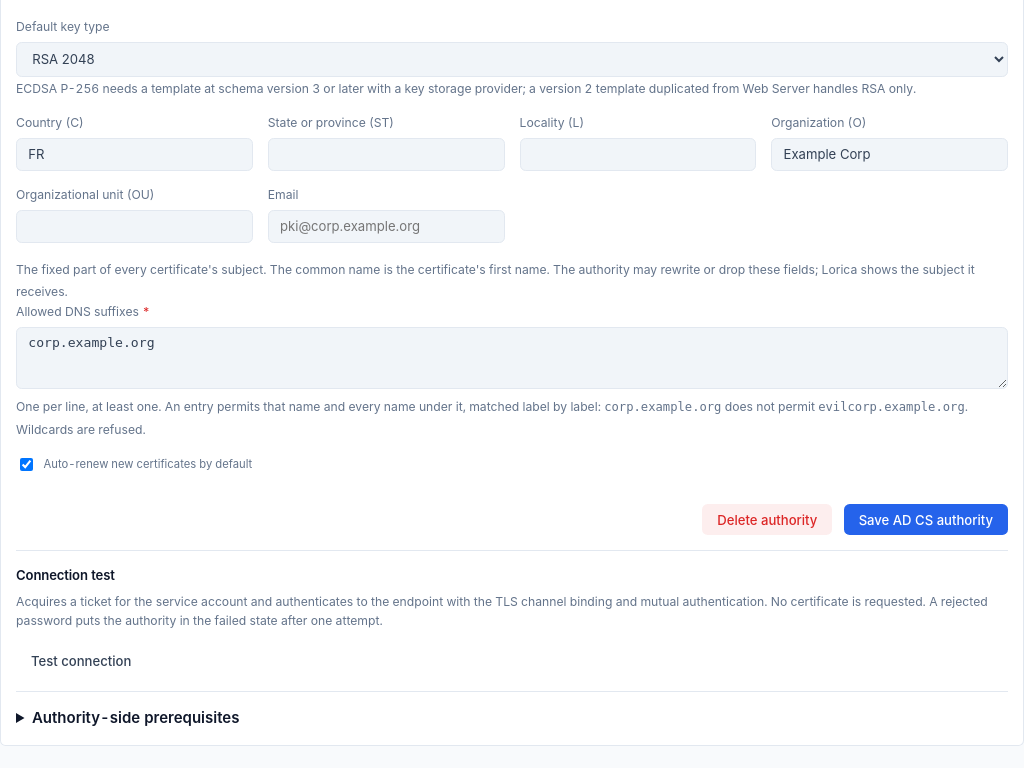
AdcsAuthorityTab refusals › shows a busy save as the API words it
(page scrolled)
Click the button "Save AD CS authority".
click(926, 520)  # box x1=844 y1=504 x2=1008 y2=535
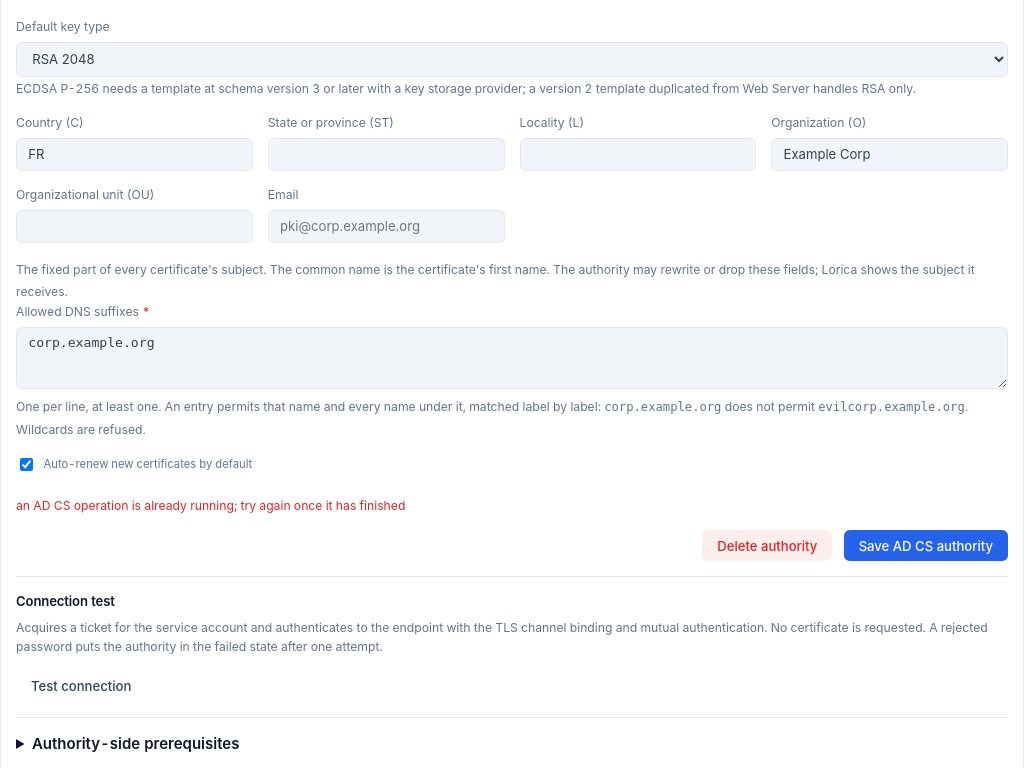
Expected: the message with test id "adcs-form-error" reads "an AD CS operation is already running; try again once it has finished", x1=16 y1=498 x2=405 y2=513
